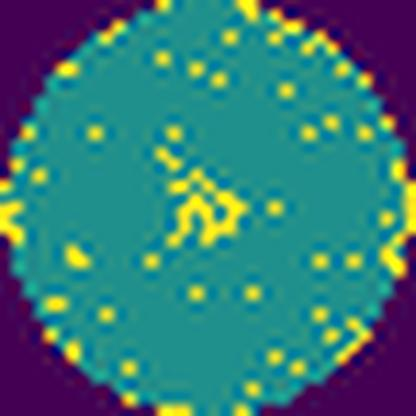Center: (156, 160, 254, 252)
